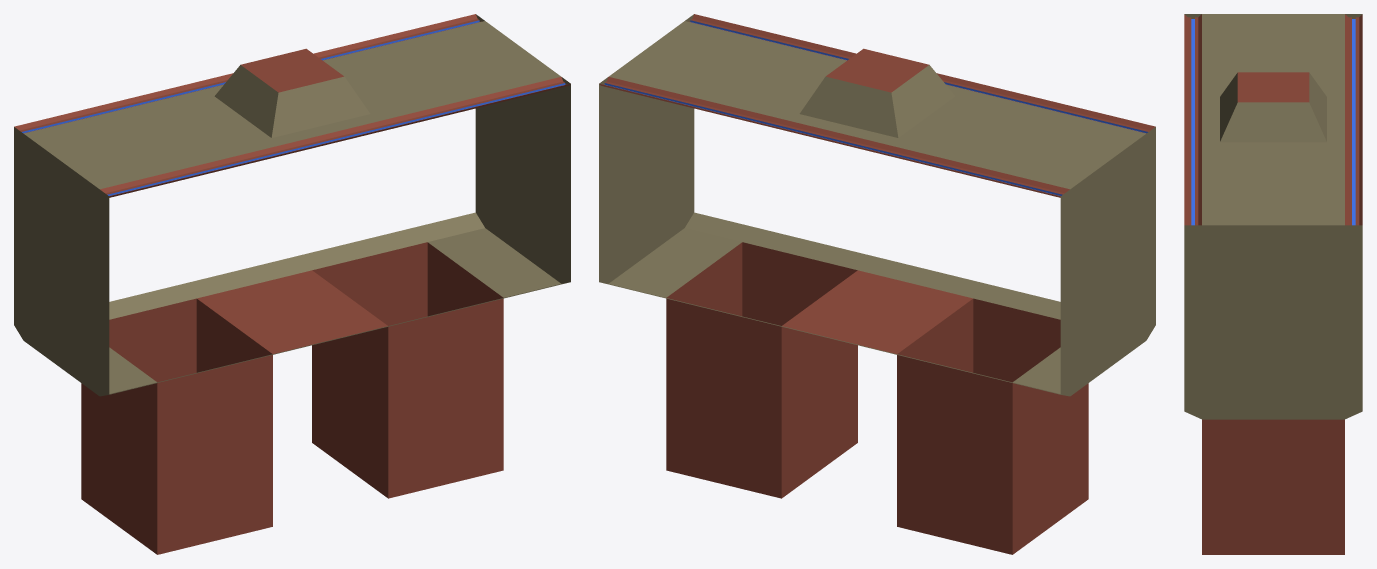
File: Dragonfly_Crusher_MainRoomSlice_2.fbx
3 renders of one model, left to right at view 1: azimuth 30°, elevation 25°; view 2: azimuth 150°, elevation 25°; view 3: azimuth 270°, elevation 25°, orthographic. The views are drawn at different scales.
Parts seen in each view (by area): view 1: Crusher_Room_Slice; view 2: Crusher_Room_Slice; view 3: Crusher_Room_Slice.
Part boxes in pixels (bbox=[...]): Crusher_Room_Slice: bbox=[14, 14, 570, 554]; Crusher_Room_Slice: bbox=[599, 14, 1155, 554]; Crusher_Room_Slice: bbox=[1184, 14, 1362, 554].
Size of the model in its own units: 28 by 24 by 10.
